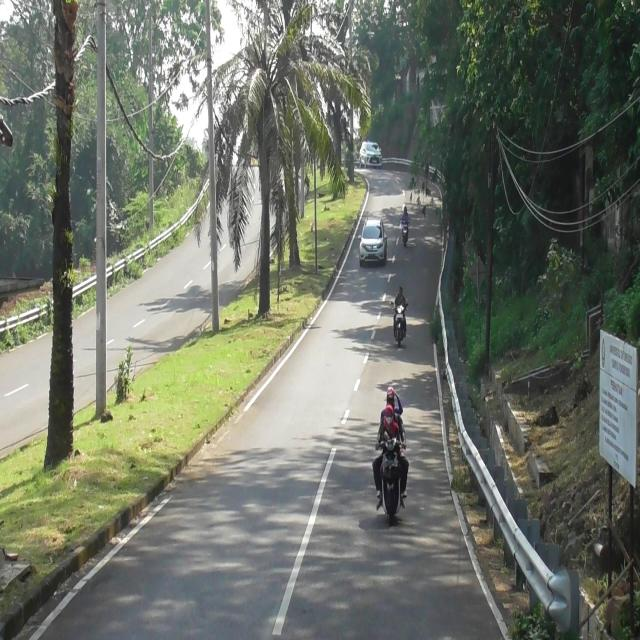motorcycle: (377, 436, 400, 522), (394, 303, 405, 347), (401, 219, 409, 247)
person: (376, 394, 406, 448), (382, 386, 403, 418), (383, 408, 400, 439), (393, 285, 407, 311), (402, 207, 409, 223)
rider_region: (374, 384, 407, 525), (392, 284, 408, 345), (400, 204, 410, 252)
